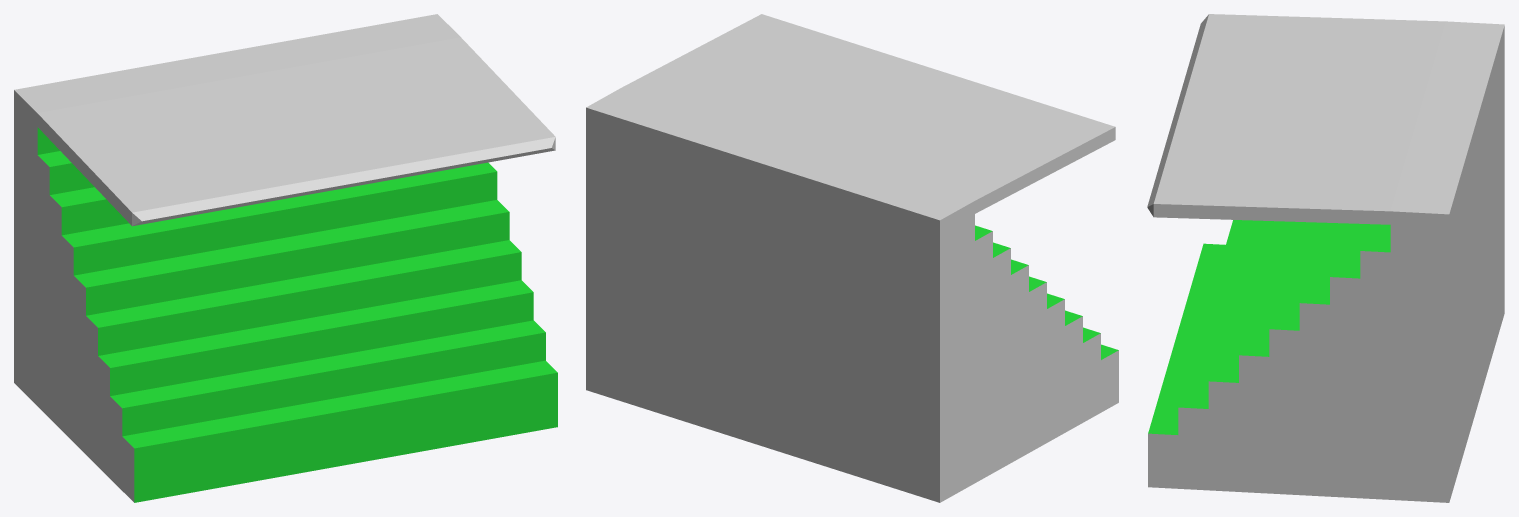
File: green_stand.glb
The picture shows the model from 3 angles, left to right: view 1: azimuth 30°, elevation 25°; view 2: azimuth 150°, elevation 25°; view 3: azimuth 270°, elevation 25°; orthographic projection. The views are drawn at different scales.
Visible parts, largest first — view 1: green_stand; view 2: green_stand; view 3: green_stand.
Part boxes in pixels (x1=…): green_stand: x1=14, y1=14, x2=557, y2=502; green_stand: x1=586, y1=14, x2=1118, y2=502; green_stand: x1=1147, y1=14, x2=1504, y2=502.
Bounding box in the file's own units: 40.28 × 26.36 × 29.6.
